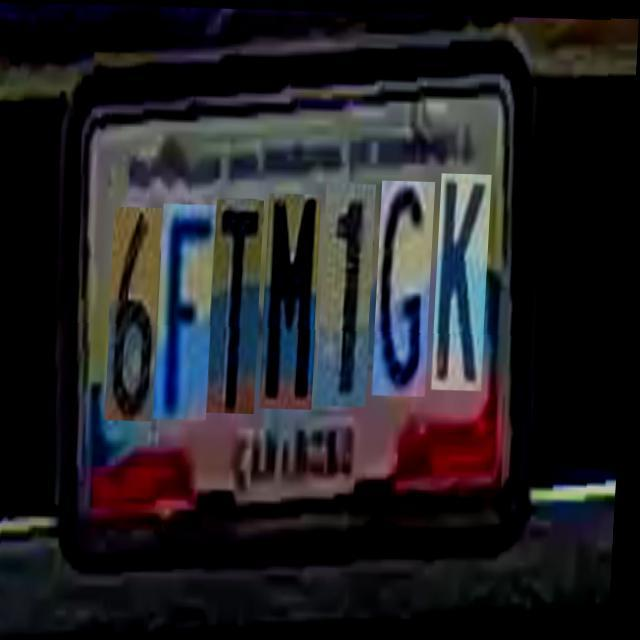1: (321, 182, 378, 404)
6: (109, 206, 165, 420)
F: (158, 202, 218, 418)
G: (376, 178, 438, 394)
K: (435, 170, 494, 388)
M: (264, 192, 324, 408)
T: (211, 198, 267, 413)
